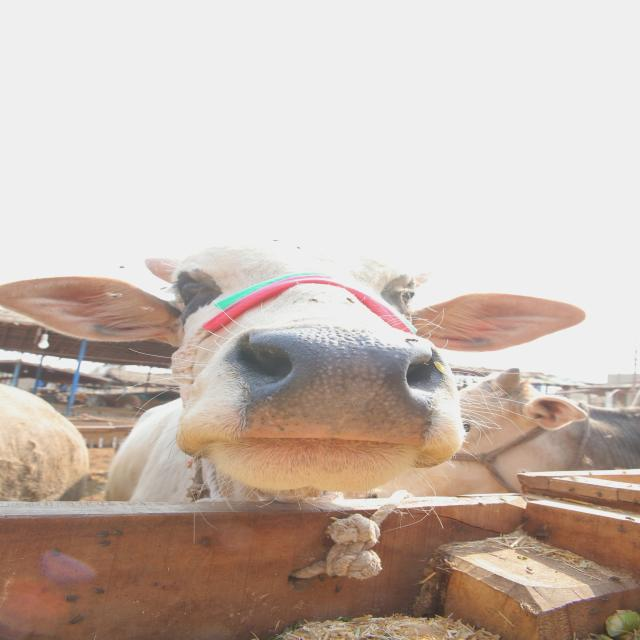muzzles: (212, 323, 453, 457)
